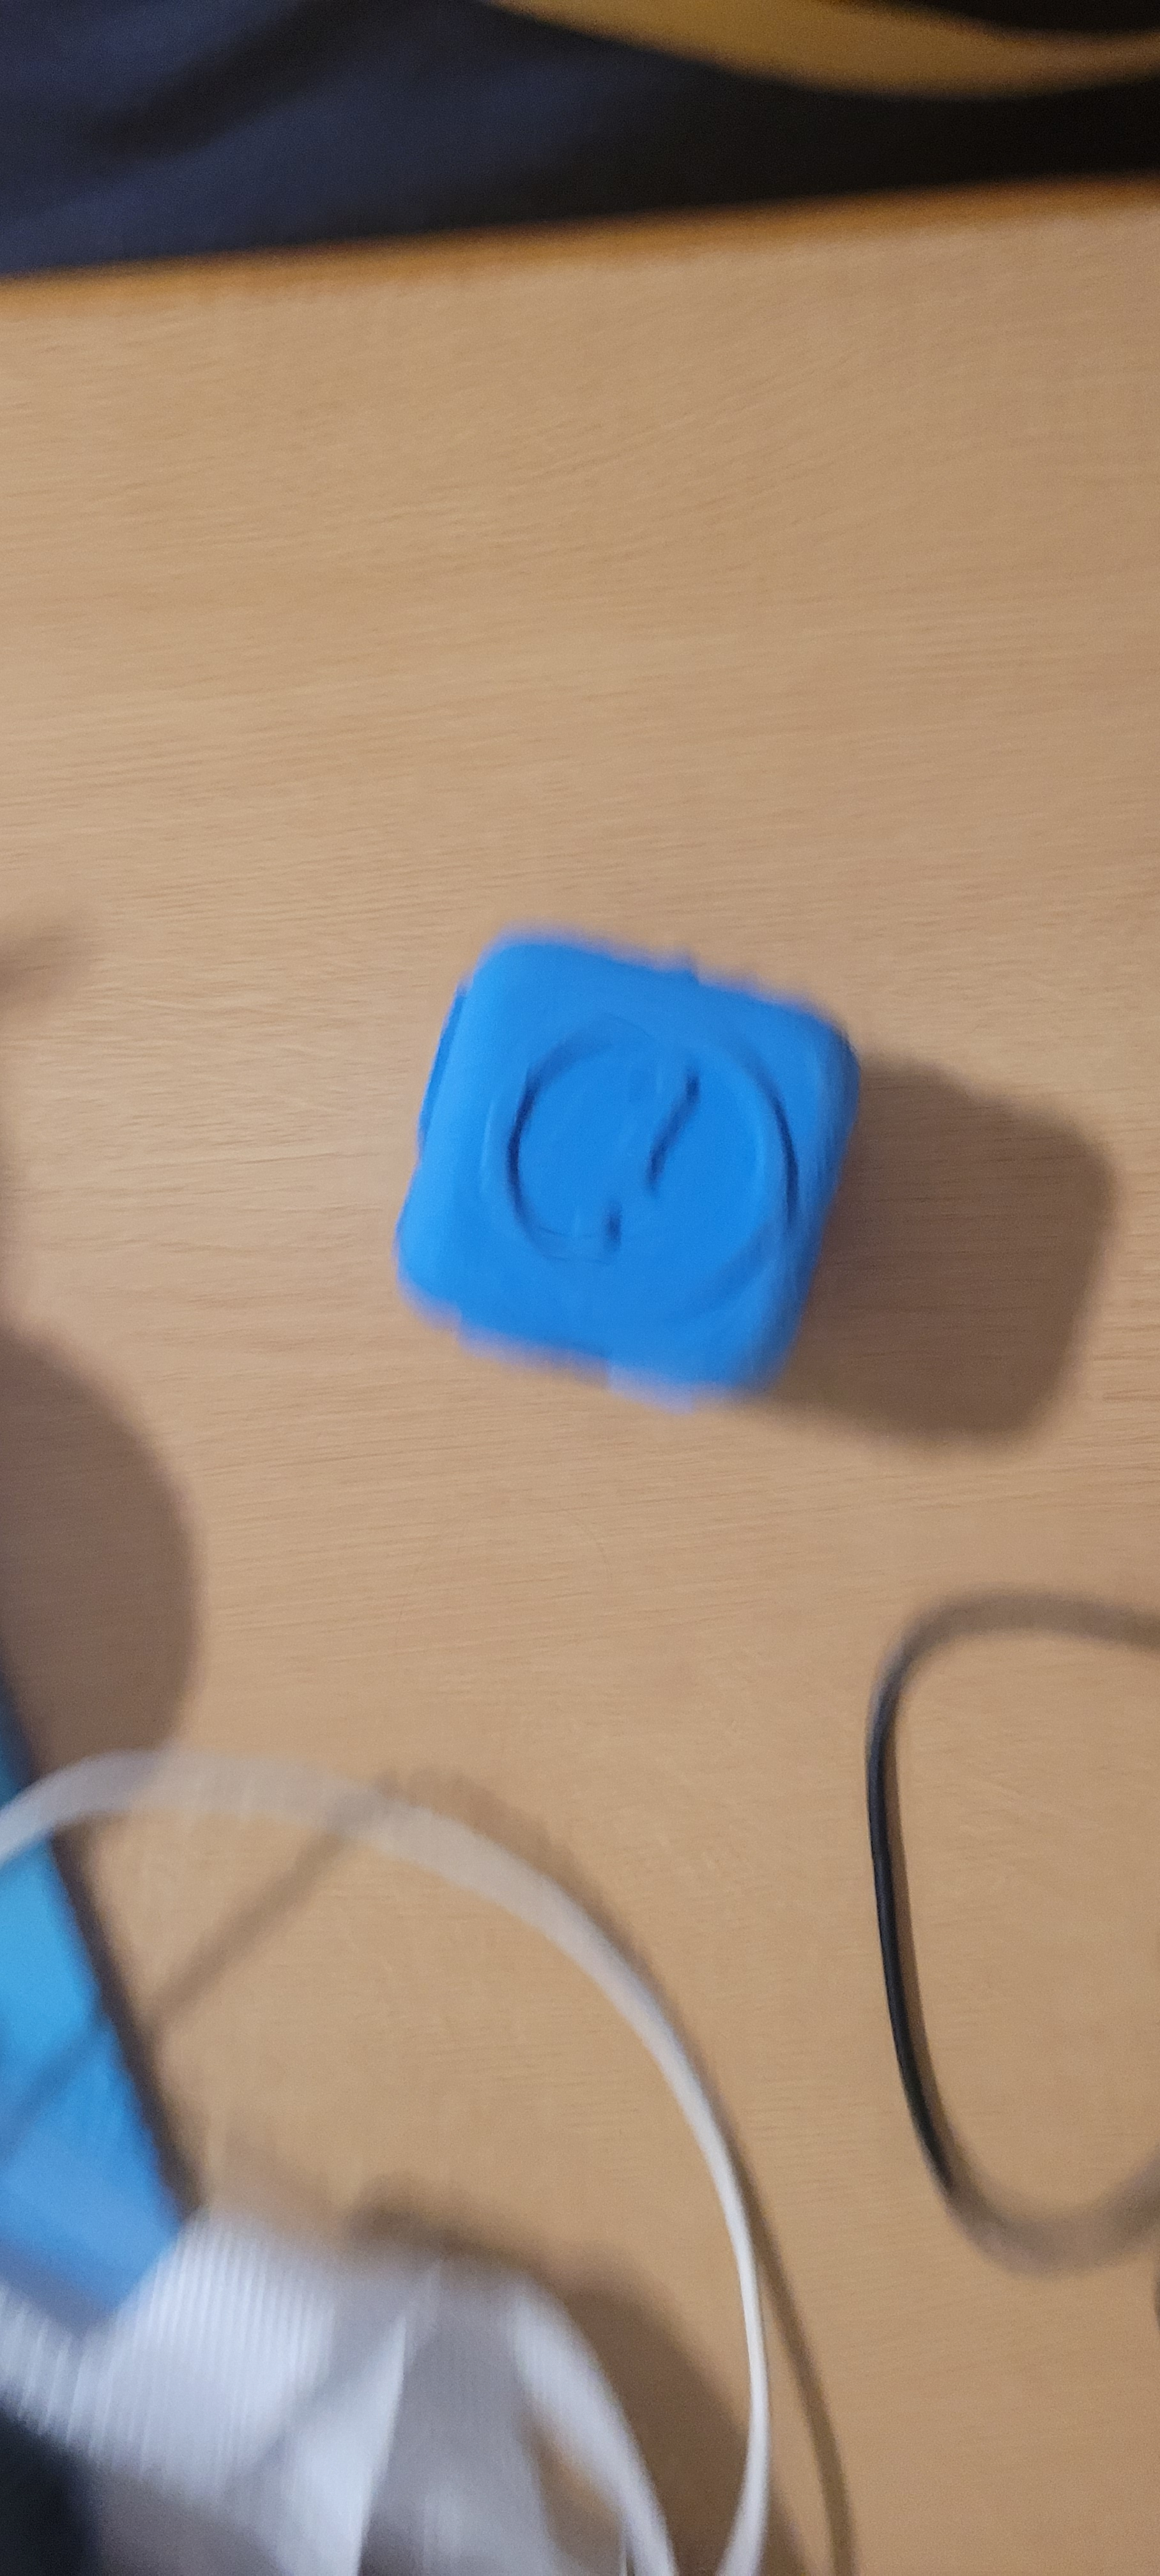Info: (545, 950, 774, 1387)
